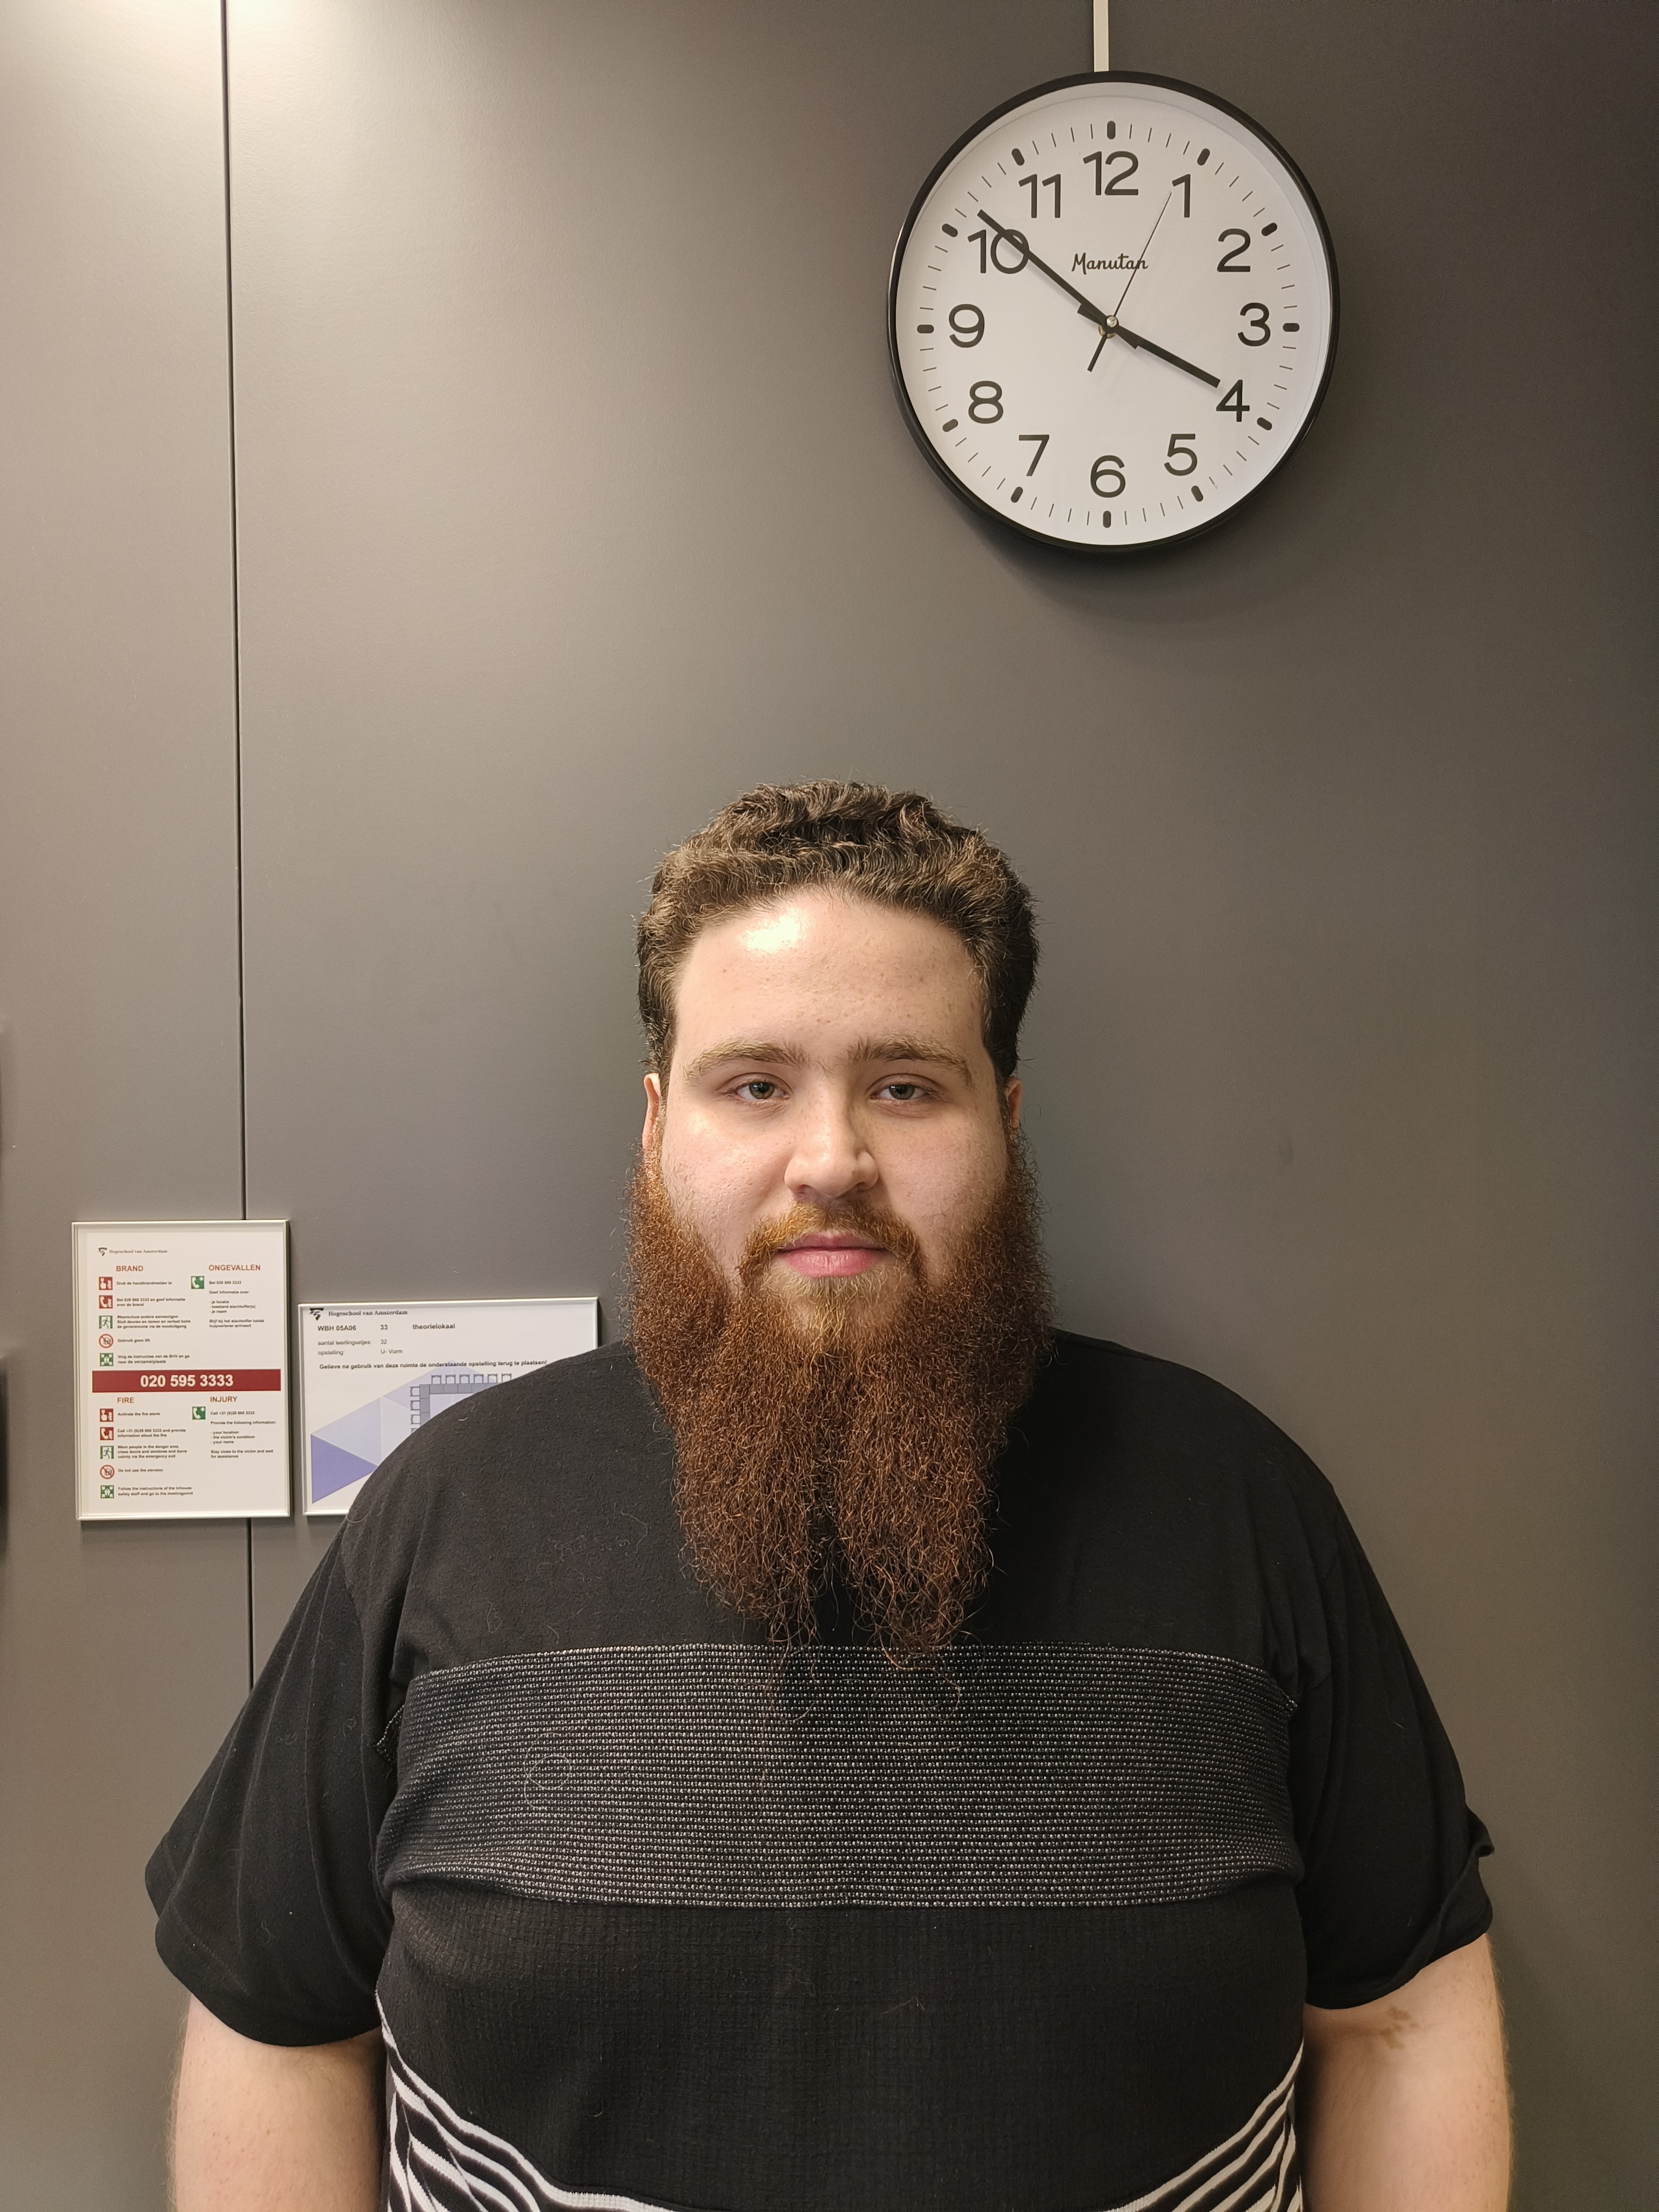face: (680, 842, 1030, 1319)
